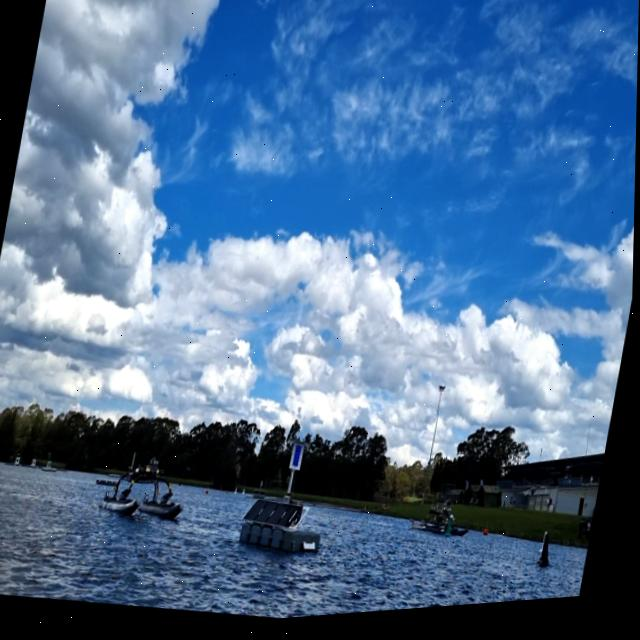led: (293, 448, 305, 473)
